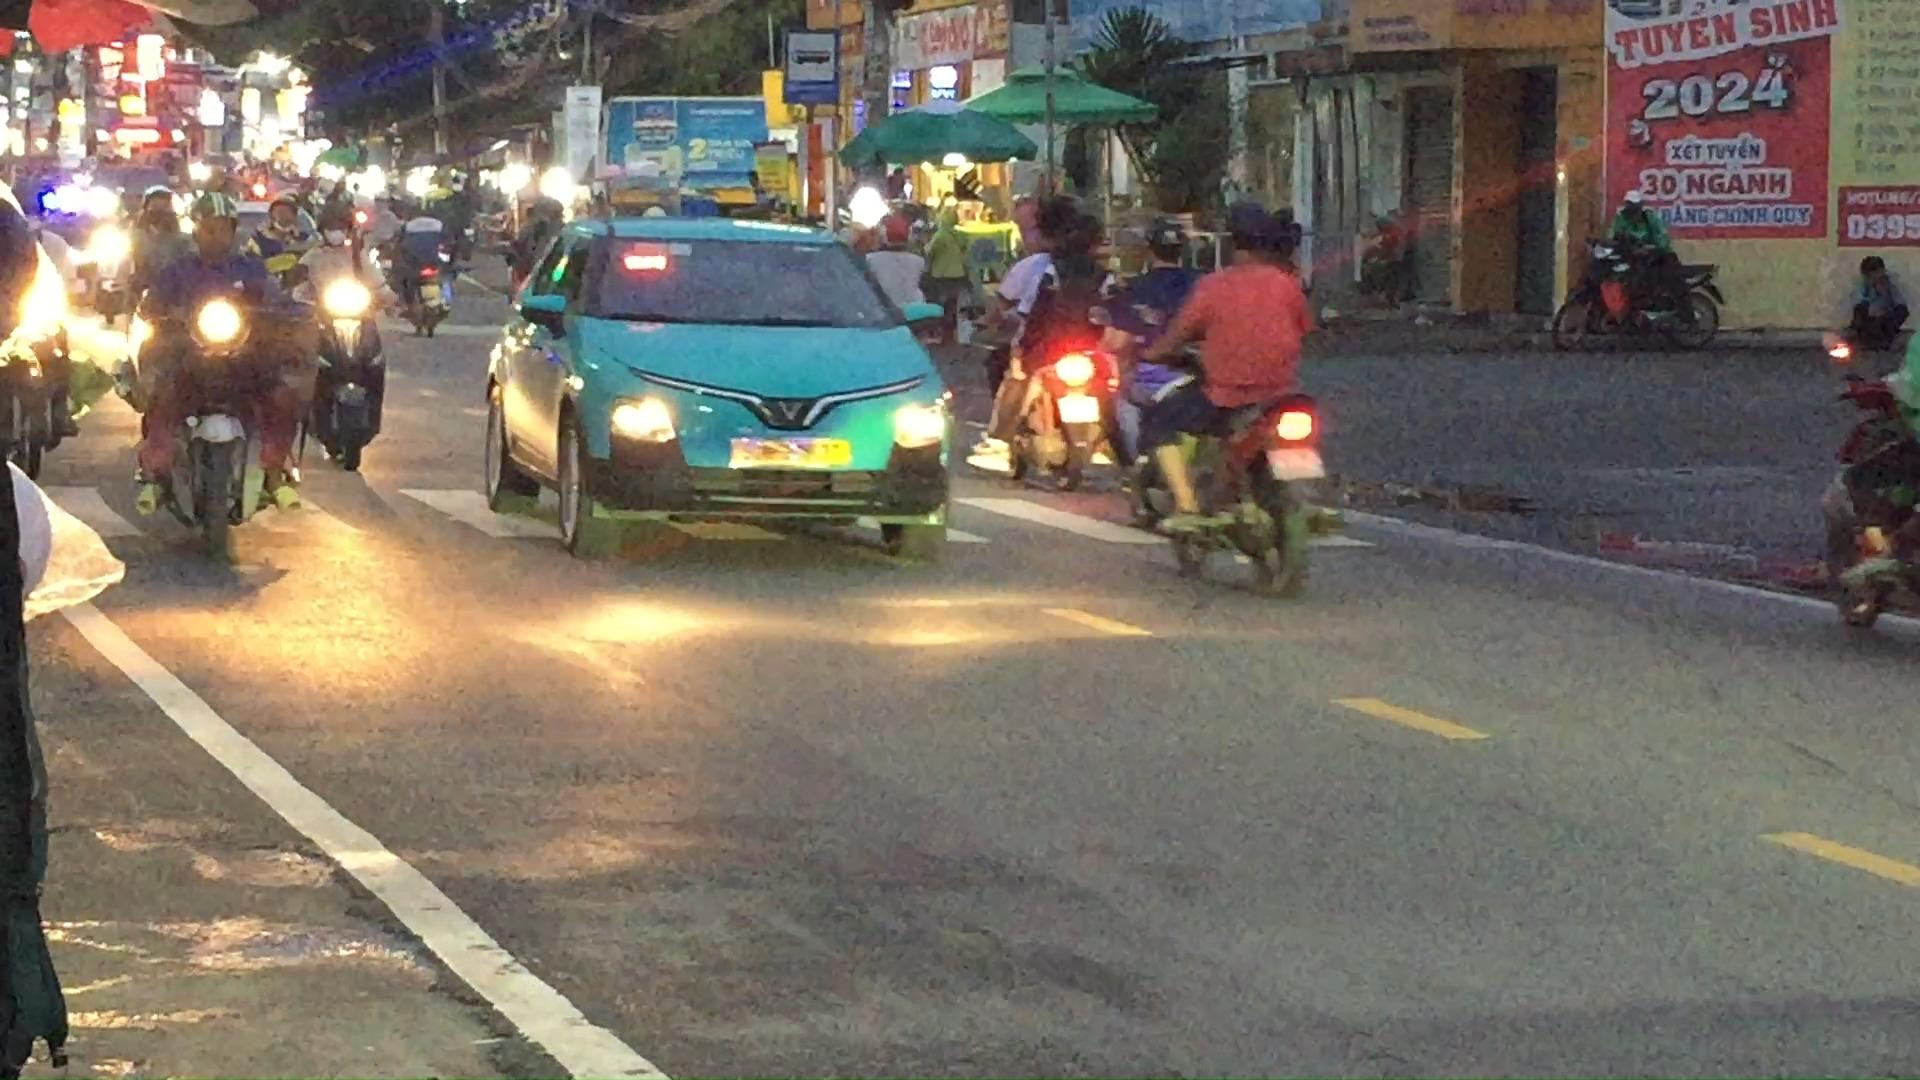bien_so: (725, 435, 855, 470), (1266, 445, 1328, 482), (1054, 393, 1103, 426)
